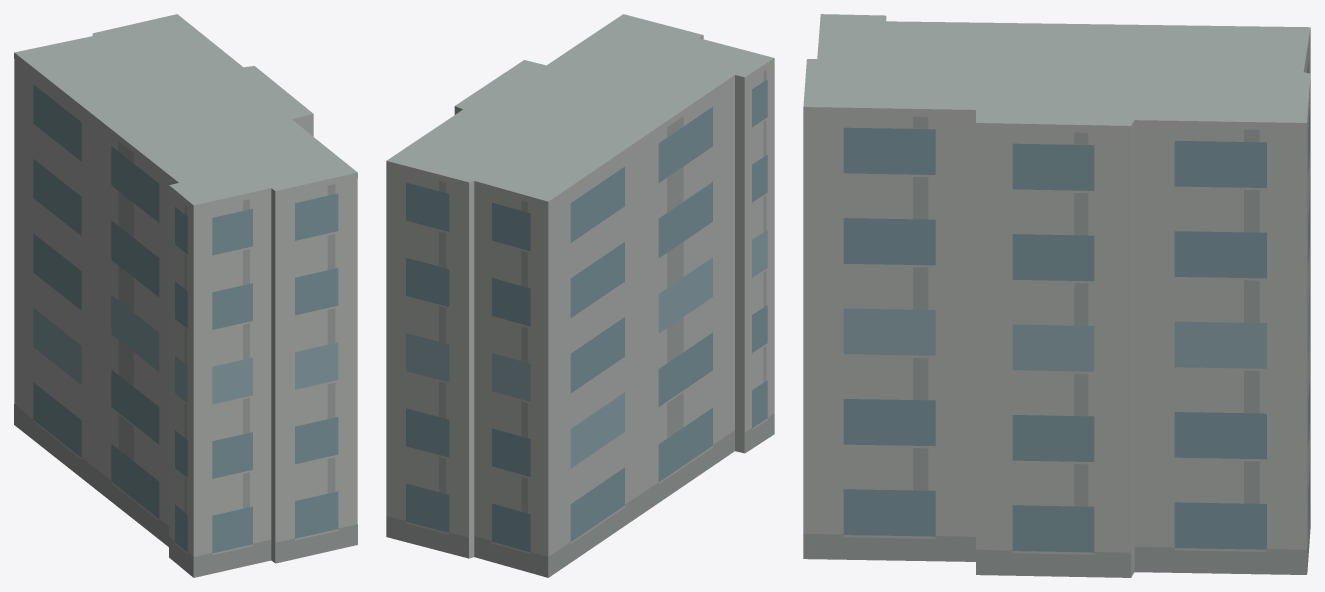
Rendered from survey-upis-32510535.glb.
3 views of the same model, side by side, from view 1: azimuth 30°, elevation 25°; view 2: azimuth 150°, elevation 25°; view 3: azimuth 270°, elevation 25° (orthographic). The views are drawn at different scales.
Visible parts, largest first — view 1: survey-upis-32510535.tmp; view 2: survey-upis-32510535.tmp; view 3: survey-upis-32510535.tmp.
Boxes of the visible parts, bbox=[...] form: survey-upis-32510535.tmp: bbox=[14, 14, 357, 577]; survey-upis-32510535.tmp: bbox=[386, 14, 774, 577]; survey-upis-32510535.tmp: bbox=[803, 14, 1310, 577].
Size of the model in its own units: 7.7 by 14.5 by 14.76.
